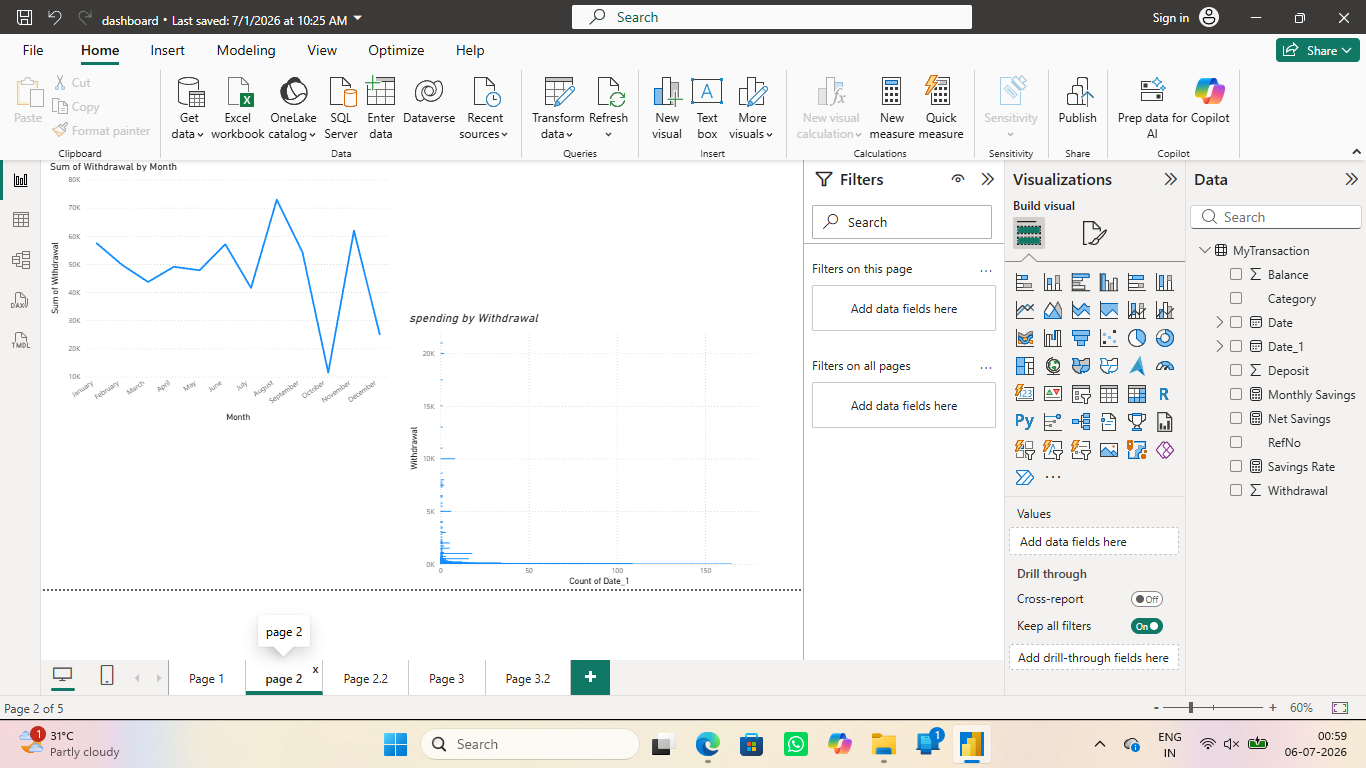

Layout of this report page (visuals, bound fields, positions):
{"tool":"powerbi","page":{"name":"page 2","canvas":[1280,720],"ordinal":1},"visuals":[{"type":"lineChart","fields":{"Category":["MyTransaction.Date.Variation.Date Hierarchy.Month"],"Y":["Sum(MyTransaction.Withdrawal)"]},"box":[10.1,0,581.2,445.1],"z":0},{"type":"clusteredBarChart","title":"spending by Withdrawal","fields":{"Category":["MyTransaction.Withdrawal"],"Y":["CountNonNull(MyTransaction.Date_1)"]},"box":[613.1,253.6,606.4,467],"z":1000}]}

Visuals, with their boxes on the page's 1280x720 design canvas (x1, y1, x2, y2). These are canvas units, not pixel positions in the 1366x768 screenshot, which may show the page scaled, cropped or inside an application window:
lineChart - MyTransaction.Date.Variation.Date Hierarchy.Month x Sum(MyTransaction.Withdrawal): {"x1": 10, "y1": 0, "x2": 591, "y2": 445}
"spending by Withdrawal" clusteredBarChart: {"x1": 613, "y1": 254, "x2": 1220, "y2": 721}
